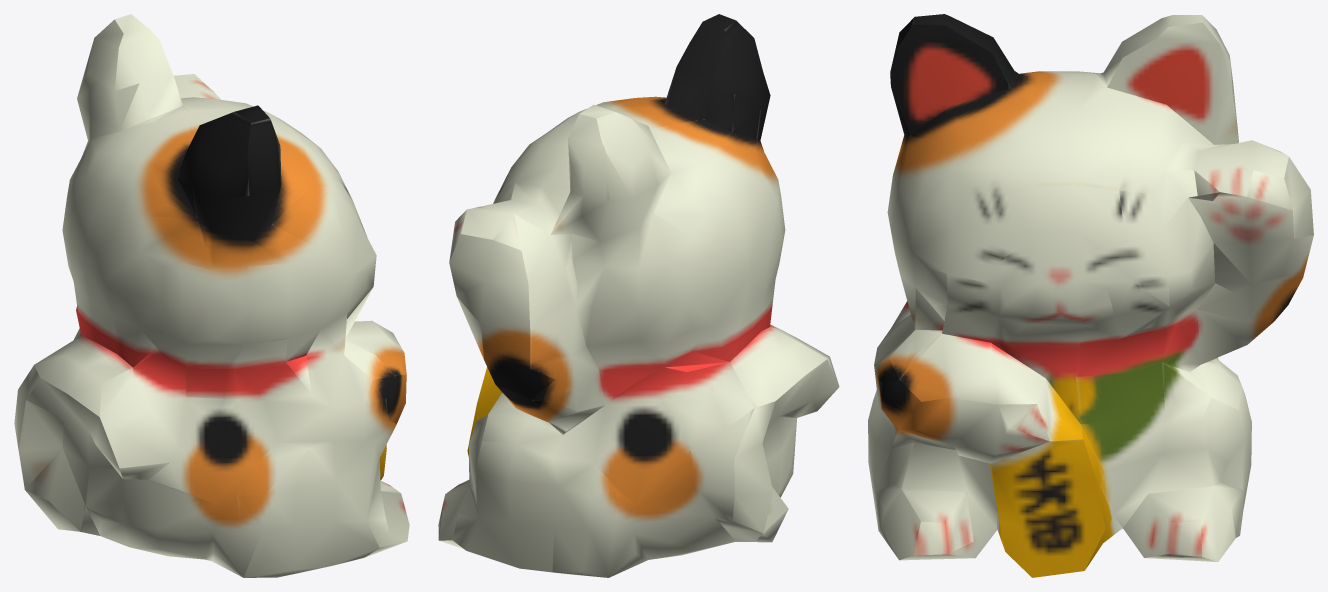
The model's file is manekineko.glb.
The picture shows the model from 3 angles, left to right: view 1: azimuth 30°, elevation 25°; view 2: azimuth 150°, elevation 25°; view 3: azimuth 270°, elevation 25°; orthographic projection. The views are drawn at different scales.
Visible parts, largest first — view 1: mesh; view 2: mesh; view 3: mesh.
Boxes of the visible parts, left/top/right/bottom form: mesh: left=14, top=14, right=409, bottom=577; mesh: left=438, top=14, right=839, bottom=577; mesh: left=868, top=14, right=1313, bottom=577.
Bounding box in the file's own units: 0.1398 × 0.19 × 0.1611.
1 material, 1 textured.
